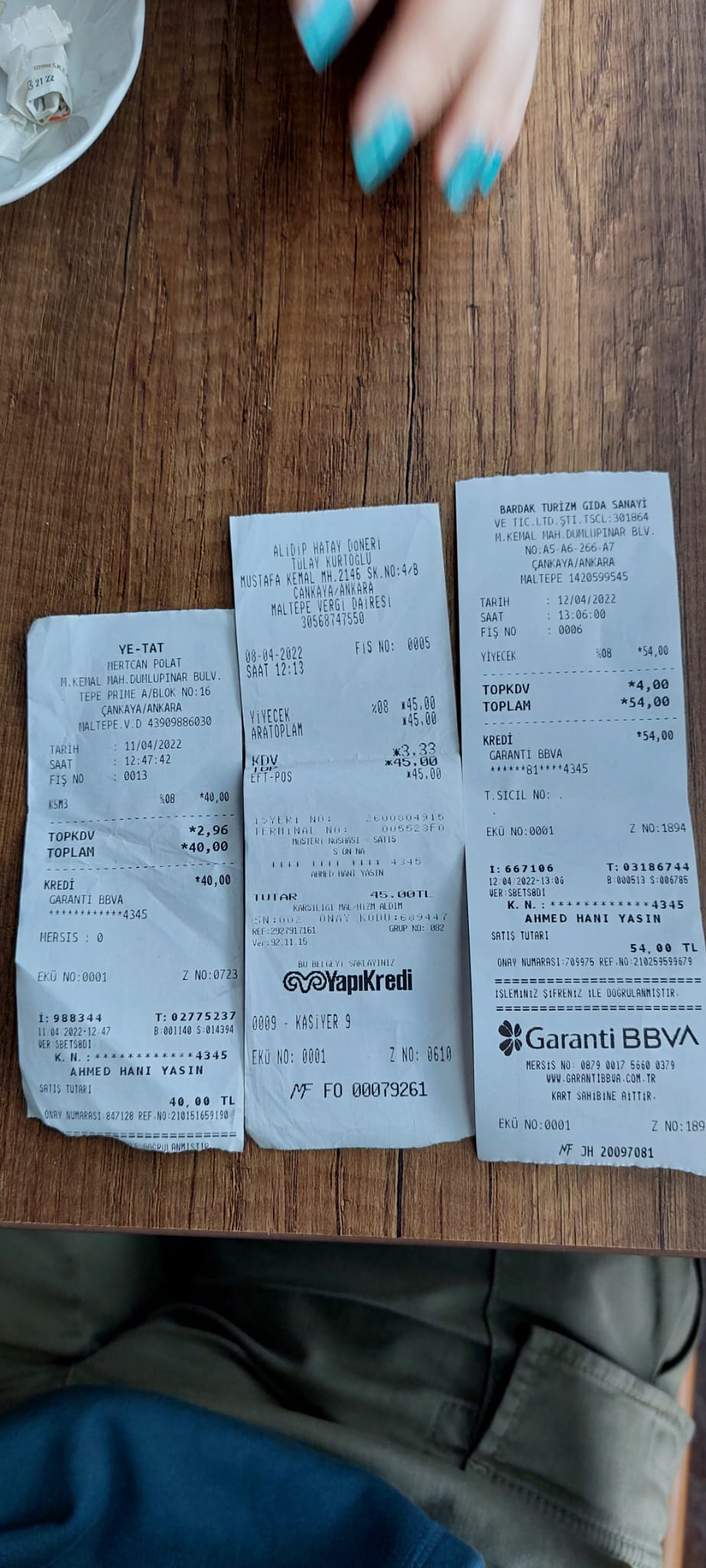date: (624, 690, 679, 710), (366, 886, 435, 901), (186, 836, 231, 857)
price: (241, 643, 305, 663), (123, 736, 186, 754), (554, 591, 623, 607)
workplace: (487, 492, 660, 572), (55, 637, 224, 718), (237, 532, 426, 602)
